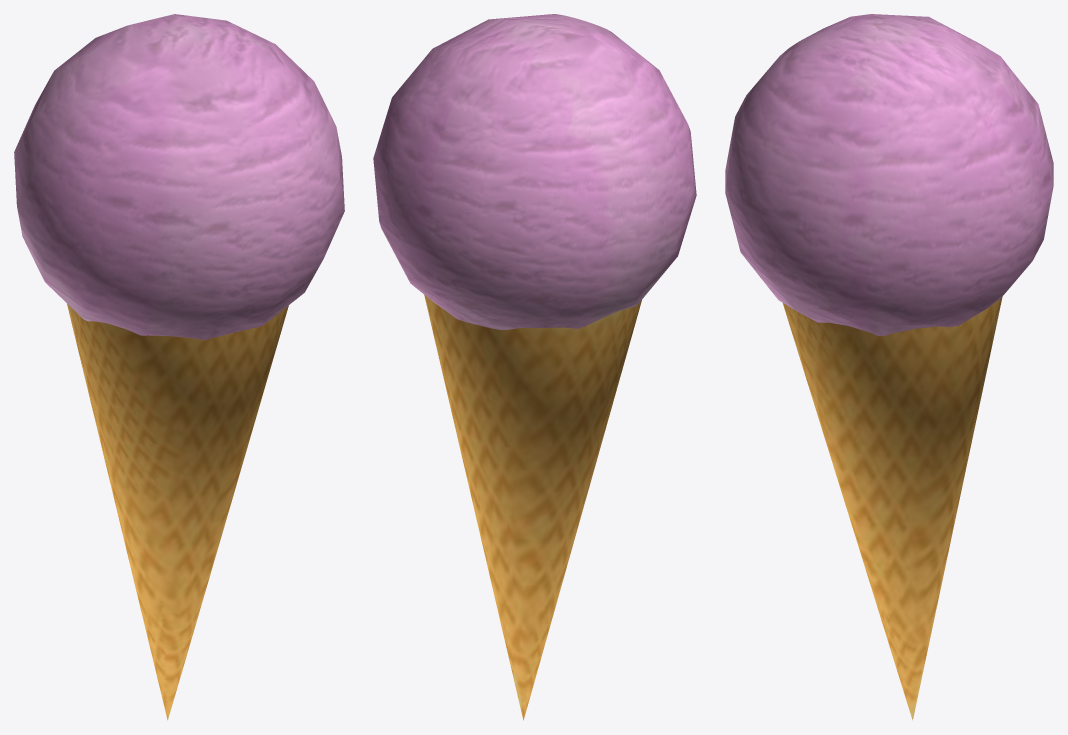
Rendered from icecream.glb.
The picture shows the model from 3 angles, left to right: view 1: azimuth 30°, elevation 25°; view 2: azimuth 150°, elevation 25°; view 3: azimuth 270°, elevation 25°; orthographic projection. The views are drawn at different scales.
Parts seen in each view (by area): view 1: IceCream1; view 2: IceCream1; view 3: IceCream1.
Boxes of the visible parts, left/top/right/bottom form: IceCream1: left=14, top=14, right=344, bottom=720; IceCream1: left=373, top=14, right=696, bottom=720; IceCream1: left=725, top=14, right=1053, bottom=720.
Size of the model in its own units: 0.5458 by 1.3 by 0.5597.
1 material, 1 textured.
